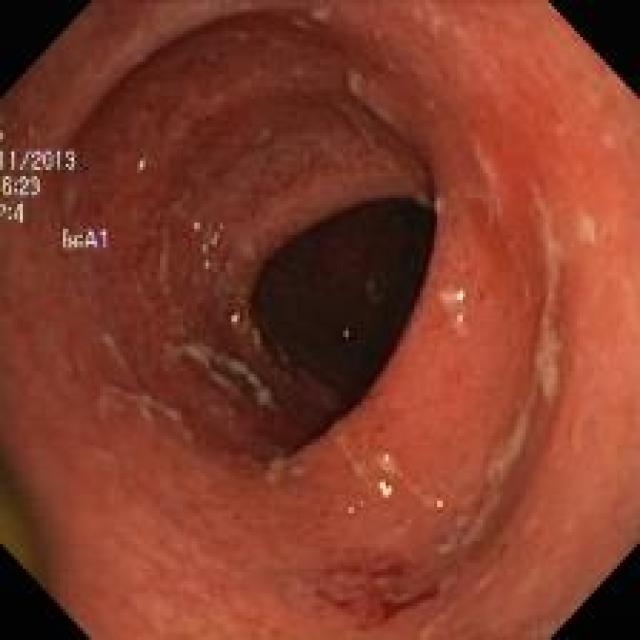ulcerative-colitis-grade-1: (0, 4, 439, 636)
